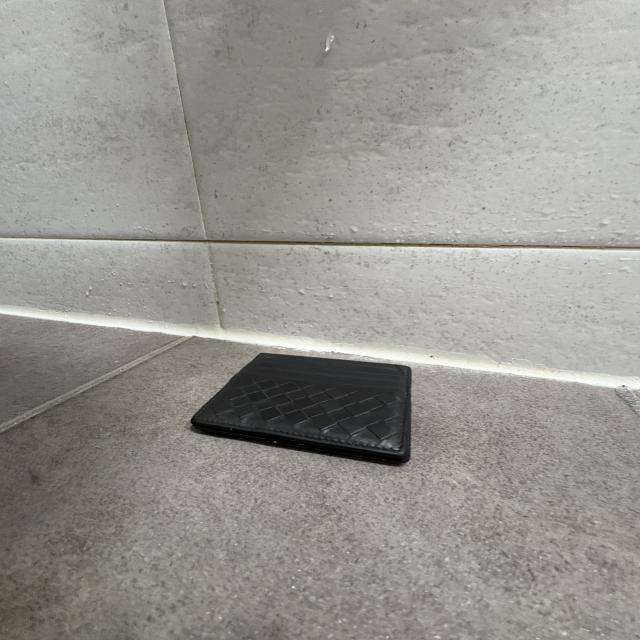wallet: (186, 354, 412, 466)
